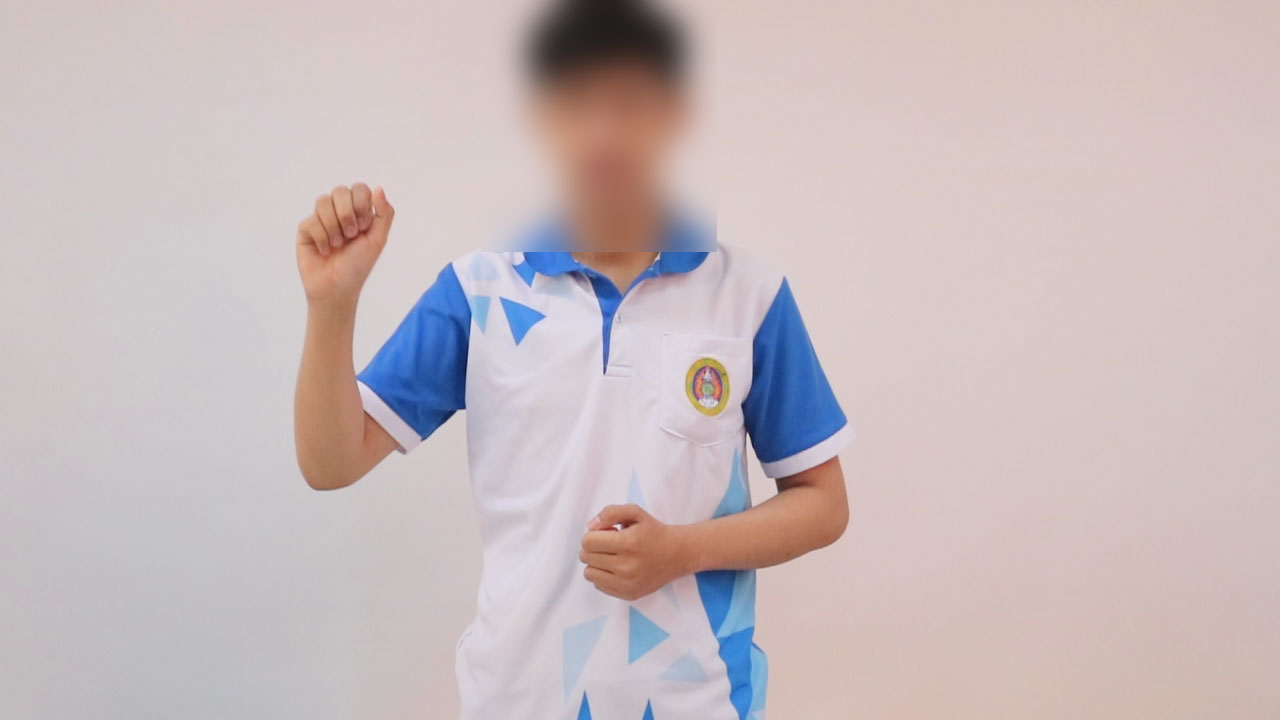sor: (279, 164, 397, 308)
